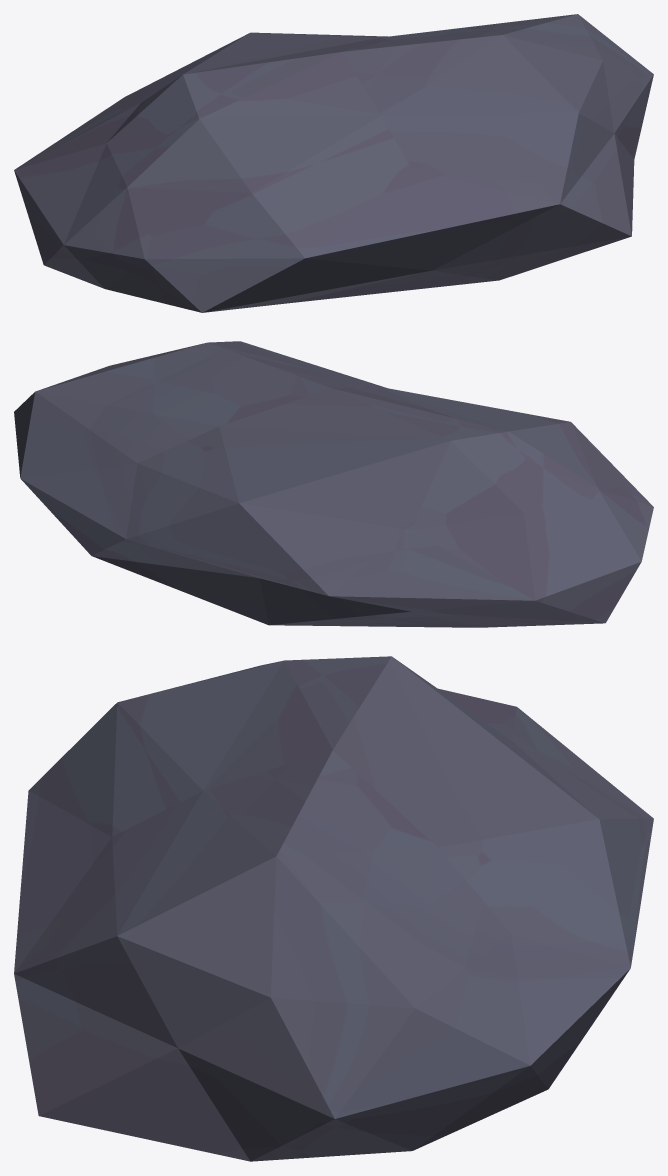
3 renders of one model, top to bottom at view 1: azimuth 30°, elevation 25°; view 2: azimuth 150°, elevation 25°; view 3: azimuth 270°, elevation 25°, orthographic. The views are drawn at different scales.
Parts seen in each view (by area): view 1: метиорит.004; view 2: метиорит.004; view 3: метиорит.004.
Part boxes in pixels (x1,y1,x2,y2): метиорит.004: (14, 14, 653, 312); метиорит.004: (14, 341, 653, 627); метиорит.004: (14, 656, 653, 1161).
Size of the model in its own units: 287 by 94.87 by 180.
